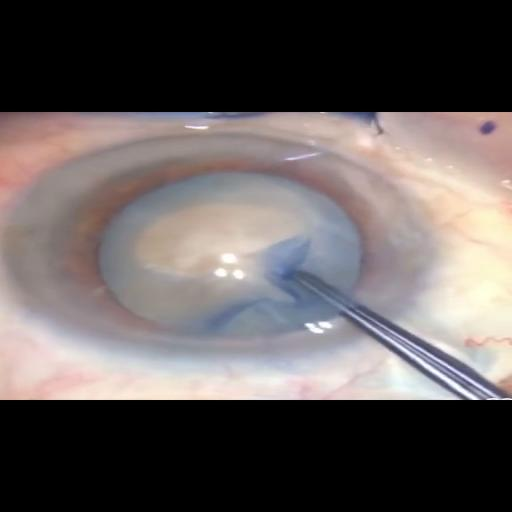catarata: (100, 169, 362, 334)
cornea: (161, 129, 438, 374)
pupil: (51, 153, 398, 346)
